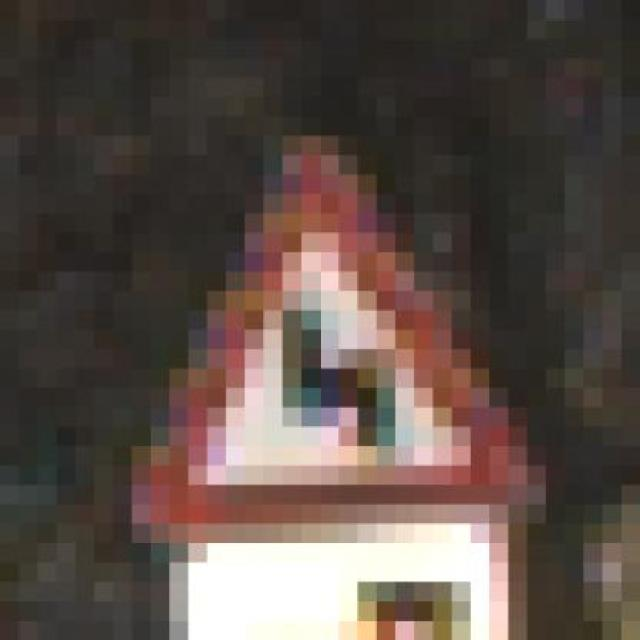Left Zig Zag Traffic: (94, 97, 546, 543)
